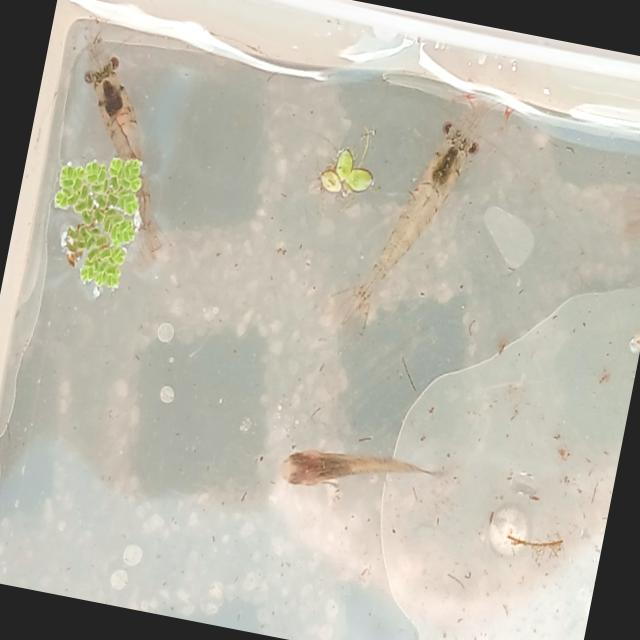Sivrisinek Baligi: (36, 11, 208, 258), (324, 90, 492, 336), (265, 416, 440, 518)
